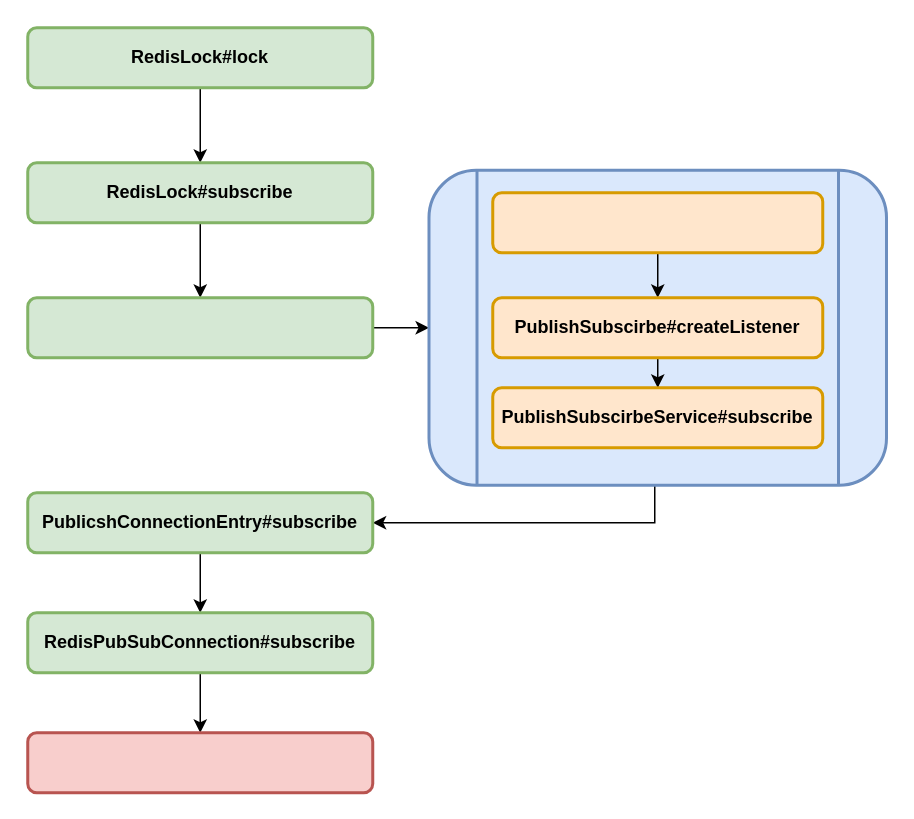
The diagram is 914 pixels wide and 819 high, and some of its shapes have lost their labels. The centre of each missing label's shape, as x and y in pixels:
"LockPubSub#createEntry" goes at (657,222).
"netty api" goes at (200,762).
"PublishSubscribe#subscribe" goes at (200,327).
